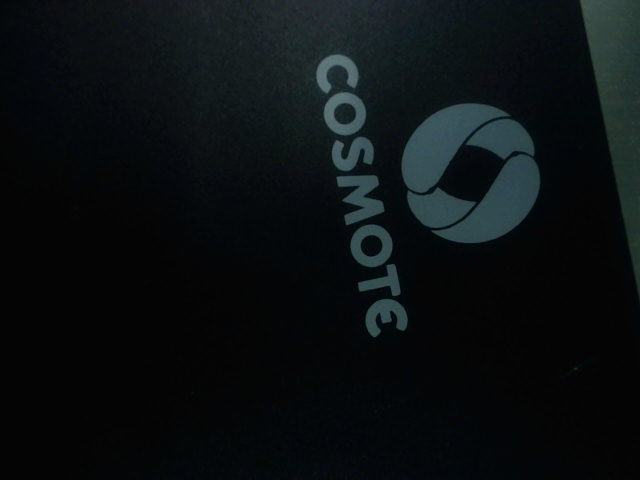AU_COSMOTE: (304, 48, 547, 337)
